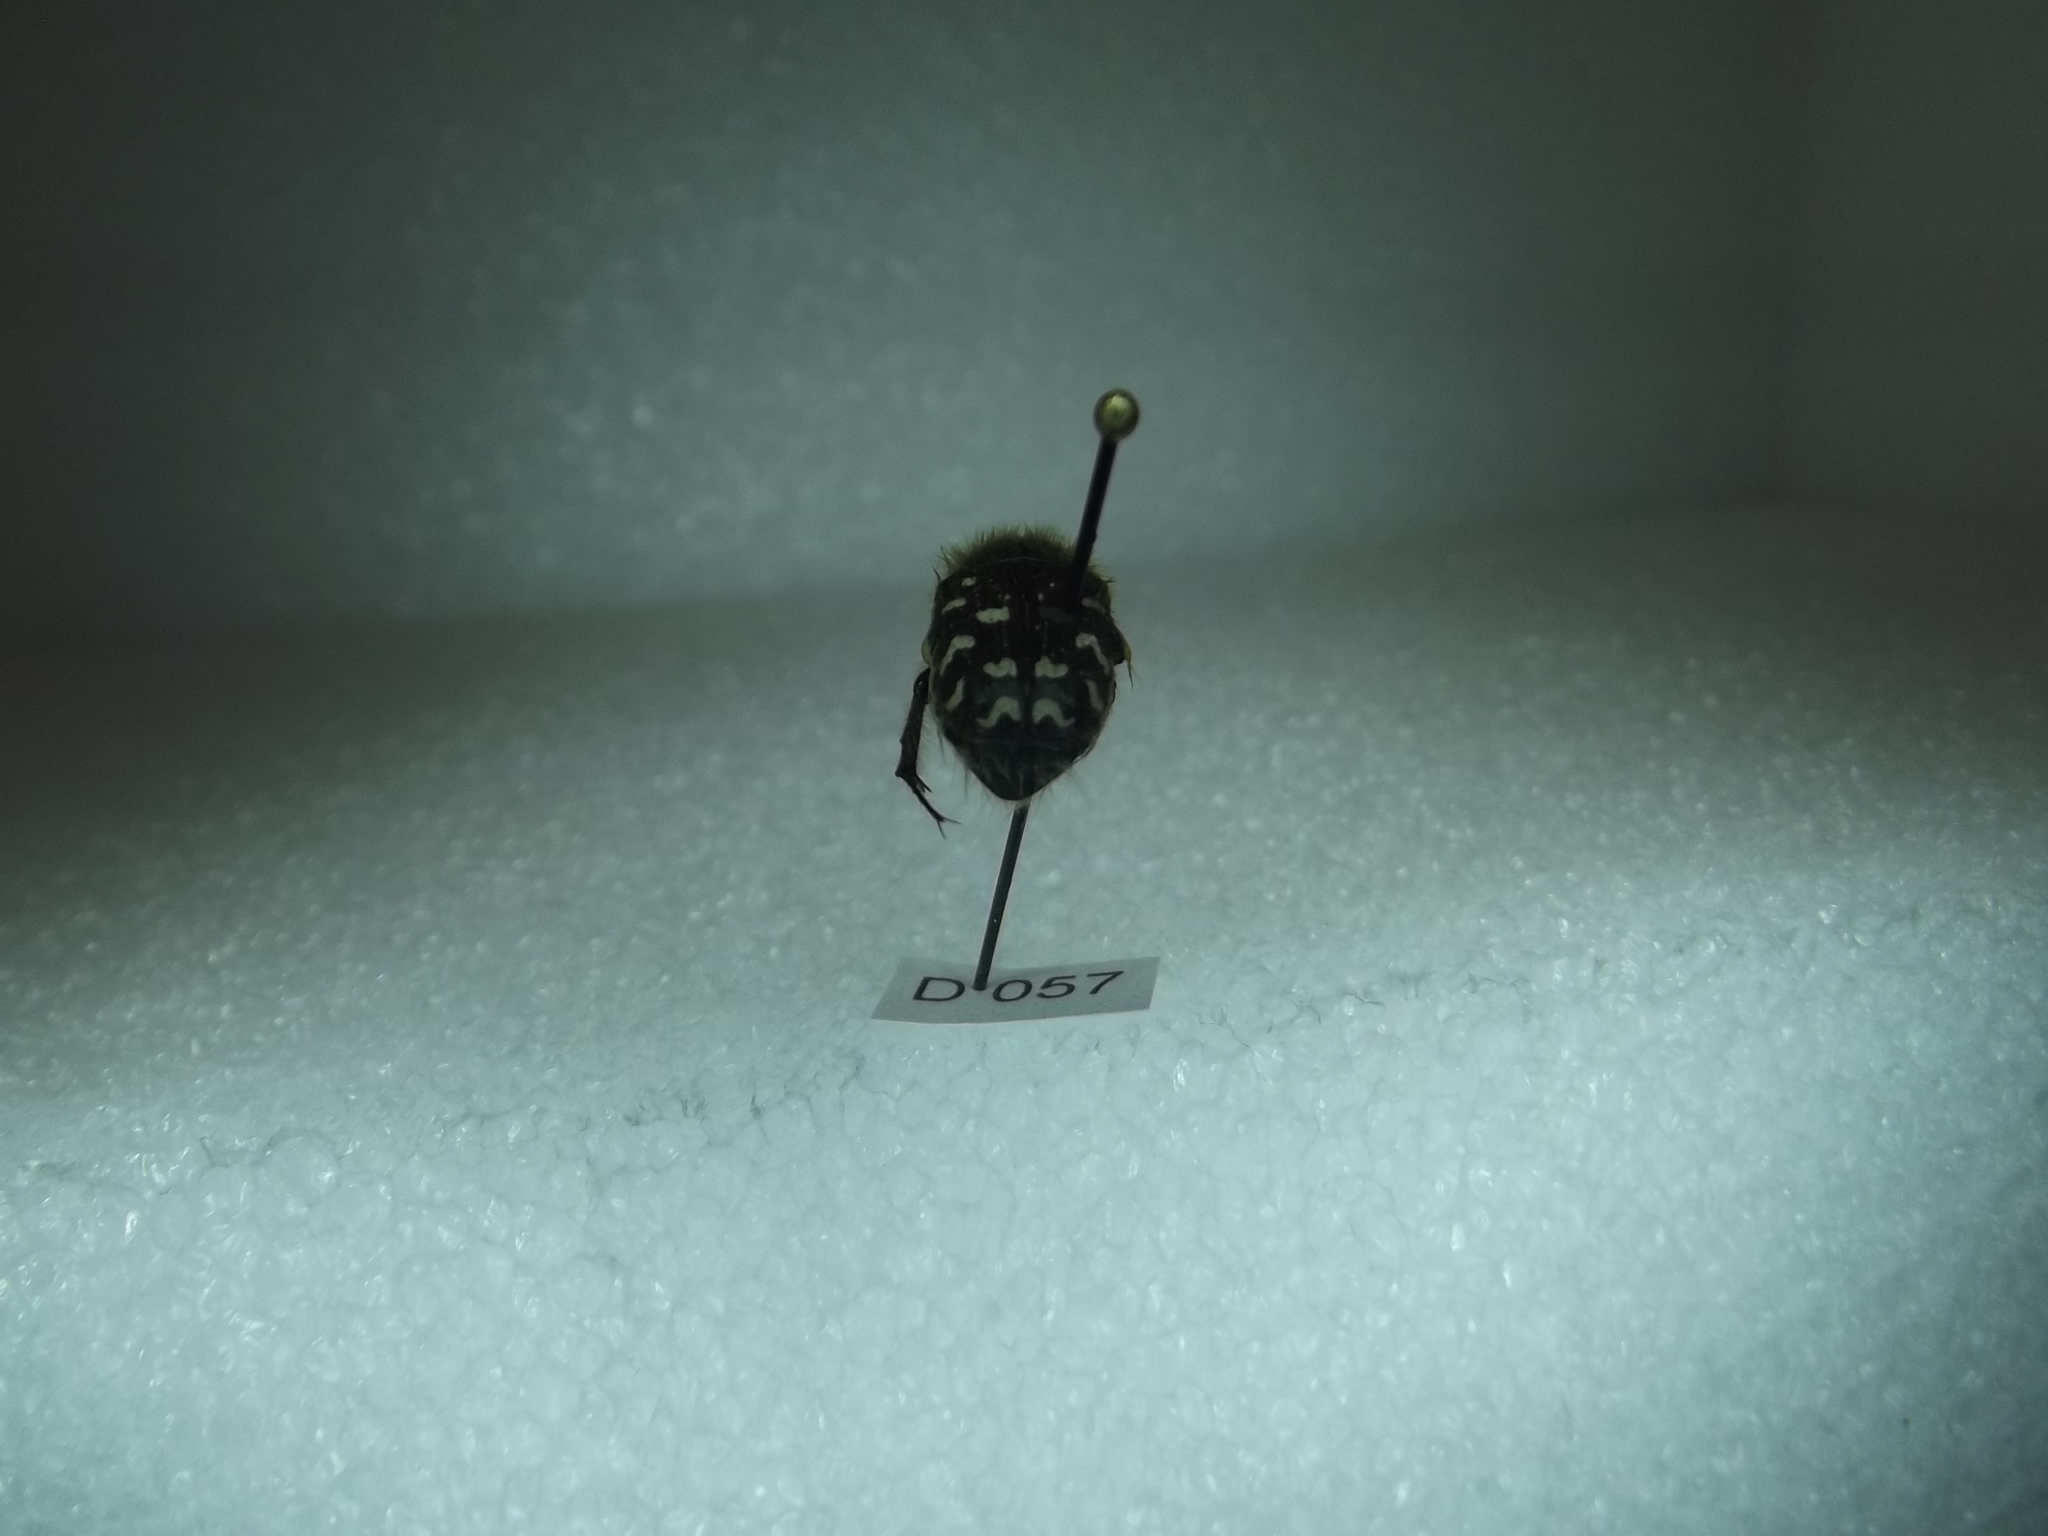Tropinota_hirta: (877, 495, 1164, 839)
